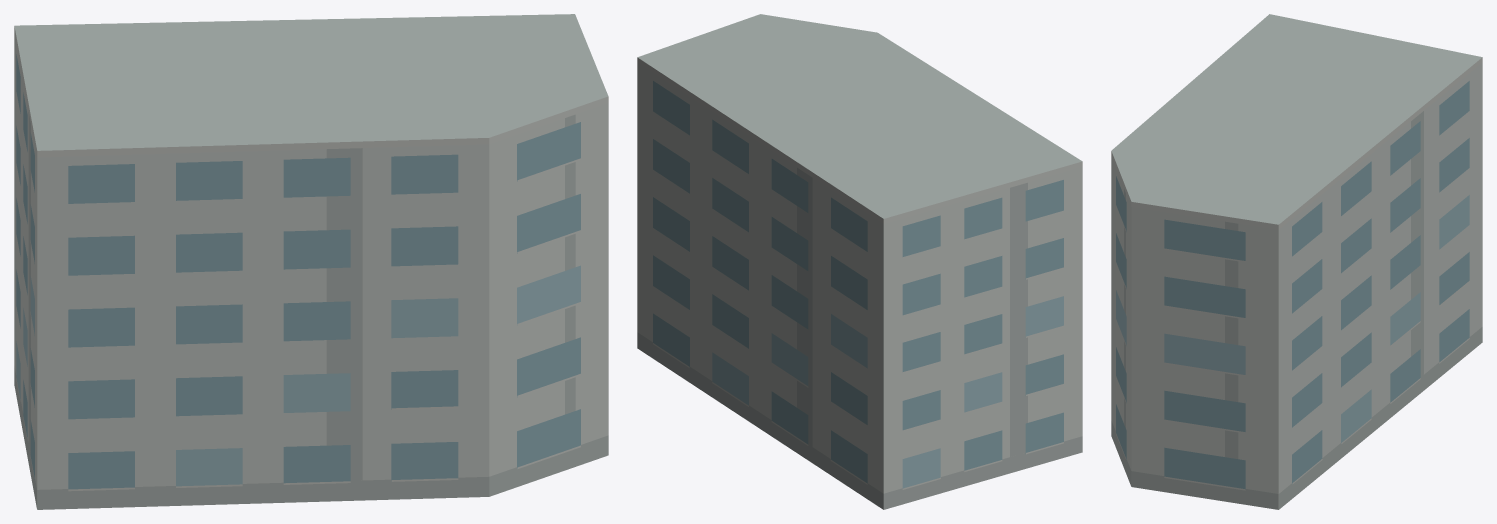
The model's file is survey-upis-32954407.glb.
3 renders of one model, left to right at view 1: azimuth 30°, elevation 25°; view 2: azimuth 150°, elevation 25°; view 3: azimuth 270°, elevation 25°, orthographic. The views are drawn at different scales.
Visible parts, largest first — view 1: survey-upis-32954407.tmp; view 2: survey-upis-32954407.tmp; view 3: survey-upis-32954407.tmp.
Part boxes in pixels (x1,y1,x2,y2): survey-upis-32954407.tmp: (14, 14, 608, 509); survey-upis-32954407.tmp: (637, 14, 1082, 509); survey-upis-32954407.tmp: (1111, 14, 1482, 509).
Bounding box in the file's own units: 20.85 × 13.15 × 15.53.
